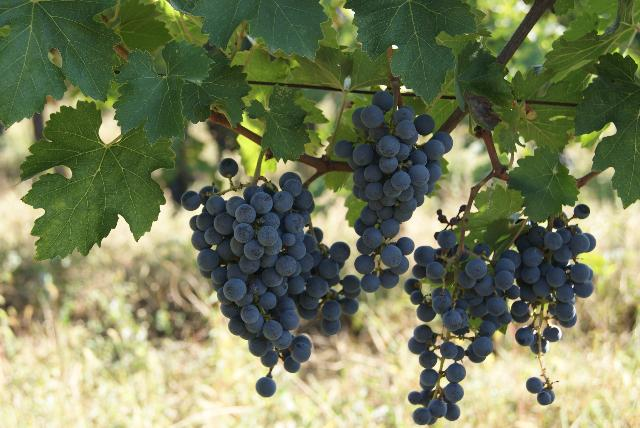grapes: (191, 172, 350, 371), (334, 90, 451, 290), (409, 229, 509, 420), (494, 205, 596, 356)
